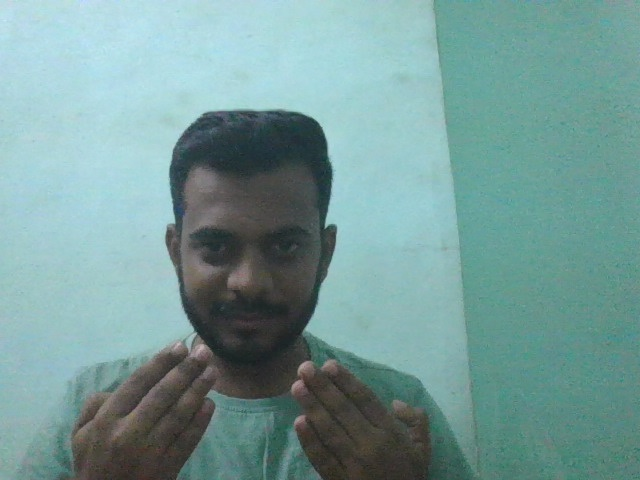thankyou: (72, 329, 438, 480)
